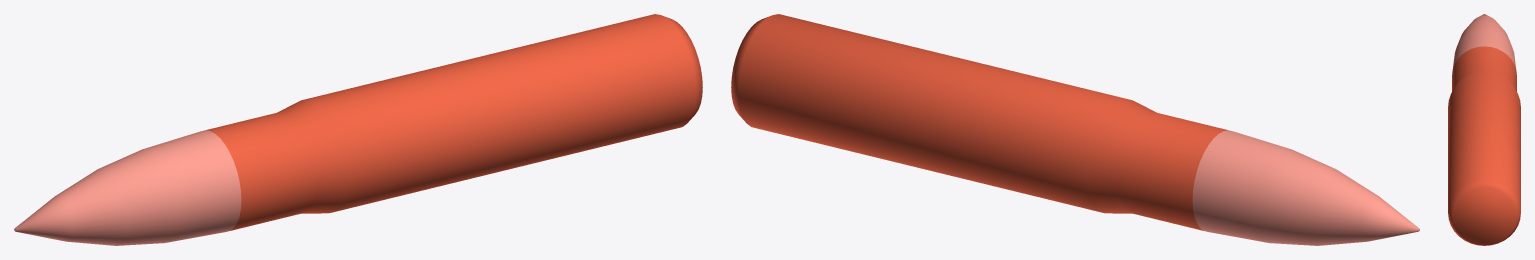
The model's file is Machine Gun Bullet.fbx.
3 renders of one model, left to right at view 1: azimuth 30°, elevation 25°; view 2: azimuth 150°, elevation 25°; view 3: azimuth 270°, elevation 25°, orthographic. The views are drawn at different scales.
Visible parts, largest first — view 1: Cylinder; view 2: Cylinder; view 3: Cylinder.
Boxes of the visible parts, box(x1,y1,x2,y2) form: Cylinder: box(14, 14, 702, 245); Cylinder: box(731, 14, 1419, 245); Cylinder: box(1448, 14, 1520, 245).
Size of the model in its own units: 0.9152 by 0.1399 by 0.1399.
